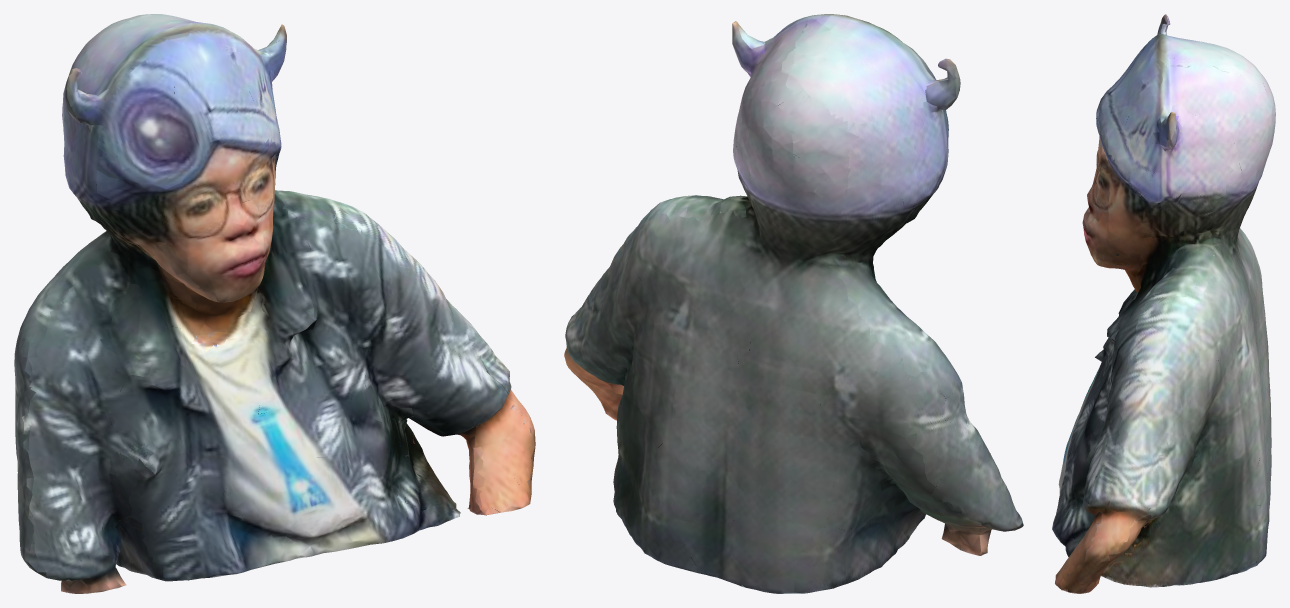
3 views of the same model, side by side, from view 1: azimuth 30°, elevation 25°; view 2: azimuth 150°, elevation 25°; view 3: azimuth 270°, elevation 25° (orthographic). The views are drawn at different scales.
Parts seen in each view (by area): view 1: world; view 2: world; view 3: world.
Boxes of the visible parts, box(x1,y1,x2,y2) form: world: box(14, 14, 535, 593); world: box(564, 14, 1023, 593); world: box(1052, 14, 1275, 593).
Bounding box in the file's own units: 0.9633 × 1.05 × 0.4581.
Materials: 1 (1 with a texture image).
